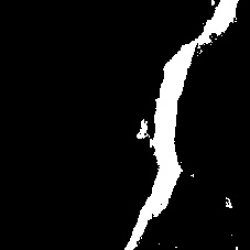crack: (124, 1, 239, 248)
pinhole: (225, 199, 232, 209)
